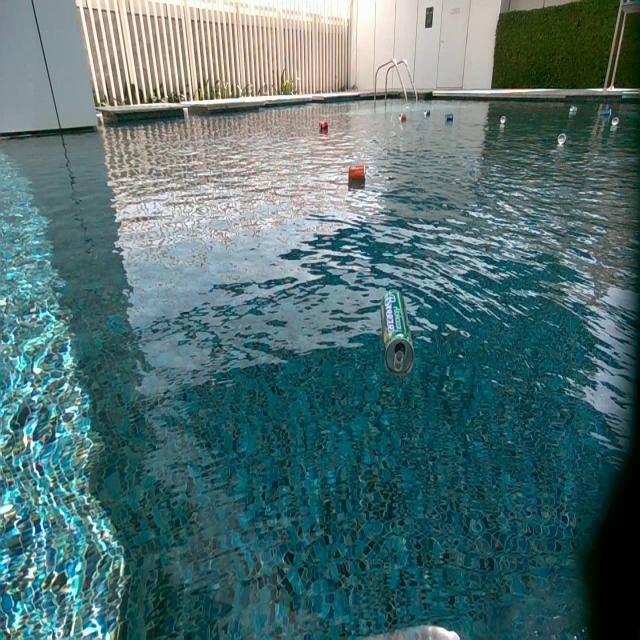Cans: (379, 284, 414, 378), (348, 164, 366, 181), (600, 108, 612, 120), (557, 133, 568, 146), (567, 105, 578, 116), (318, 119, 328, 131), (610, 116, 619, 128), (398, 112, 407, 123), (446, 113, 454, 123), (499, 119, 506, 127), (423, 110, 430, 117)
